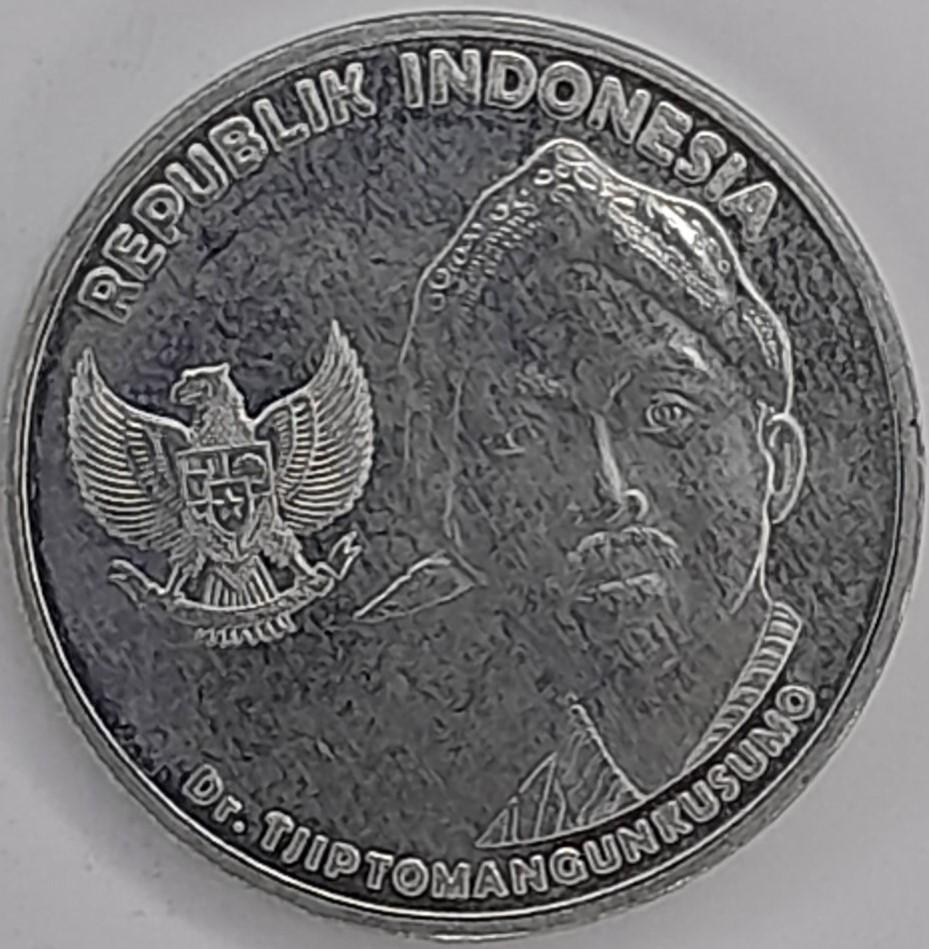coin_200_e2016: (0, 16, 929, 949)
